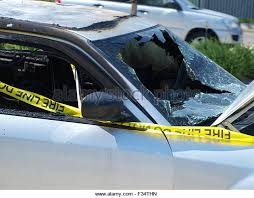Broken-glass: (118, 28, 229, 125)
